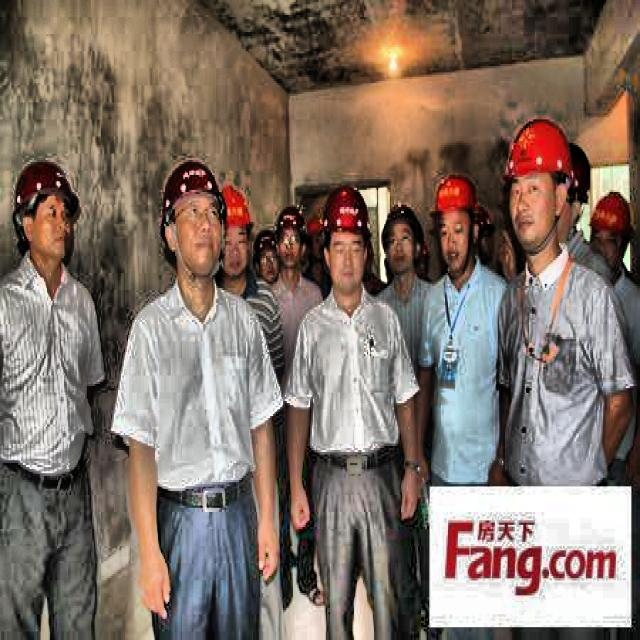helmet: (503, 119, 578, 254), (158, 151, 226, 286), (12, 154, 80, 266), (317, 183, 374, 288), (430, 169, 482, 273), (588, 190, 634, 271), (380, 196, 422, 282), (219, 183, 256, 280), (560, 136, 592, 237), (275, 201, 307, 275), (253, 224, 280, 294)
